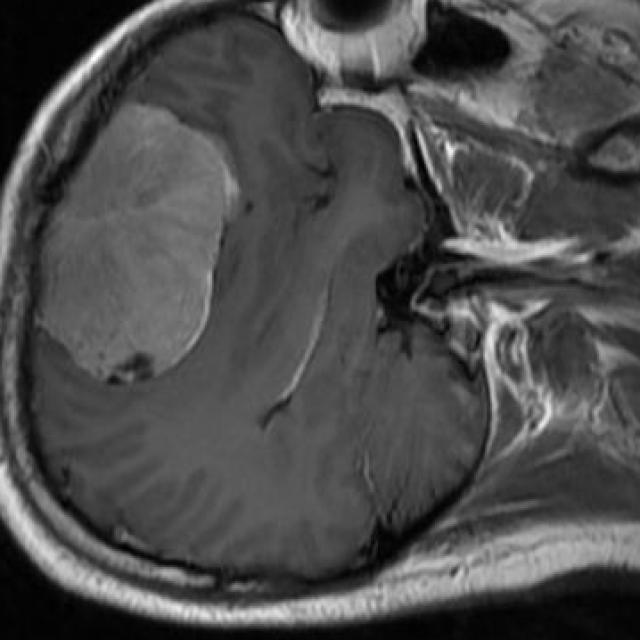meningioma: (41, 103, 235, 383)
